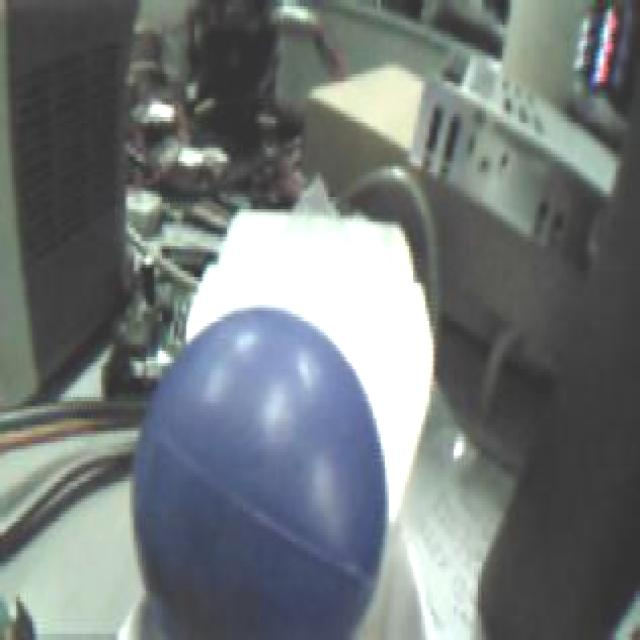BallPurple: (132, 302, 386, 640)
